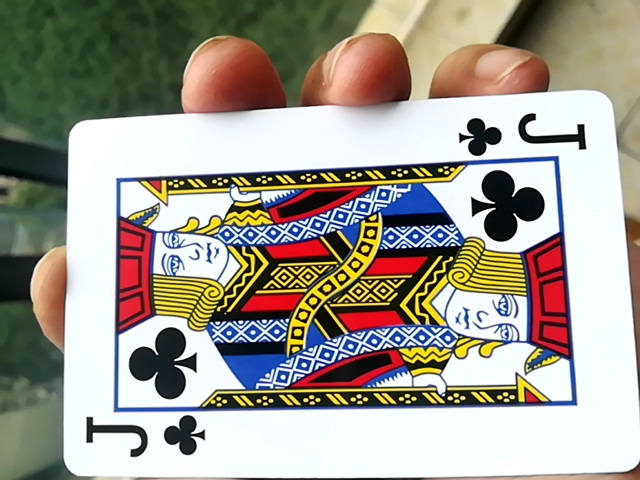mh j: (49, 104, 627, 474)
